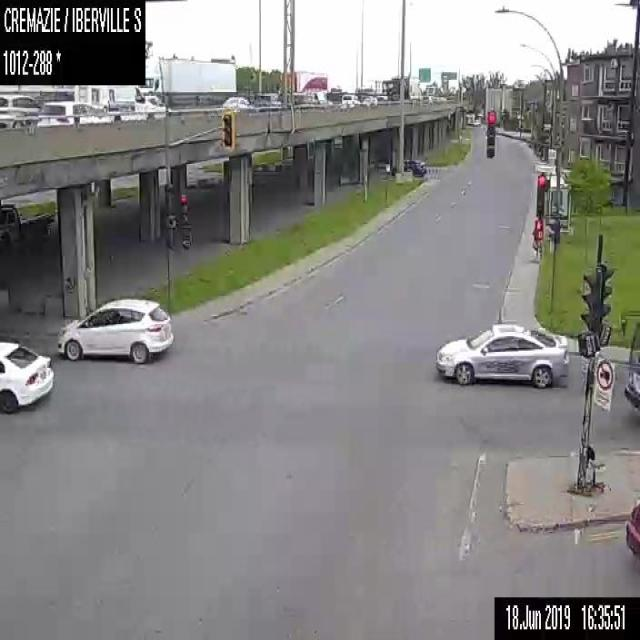pedestrian: (532, 215, 542, 262)
vehicle: (435, 320, 569, 389), (56, 295, 175, 365), (139, 56, 236, 105), (0, 339, 55, 413), (73, 84, 166, 123), (329, 74, 421, 104), (37, 100, 113, 127), (278, 69, 327, 104), (0, 93, 41, 127), (0, 201, 20, 251), (624, 494, 639, 558), (390, 158, 428, 178), (624, 360, 639, 409), (256, 90, 280, 109), (221, 95, 252, 108), (341, 92, 359, 107), (361, 96, 377, 107), (422, 94, 436, 106), (410, 94, 422, 105)
